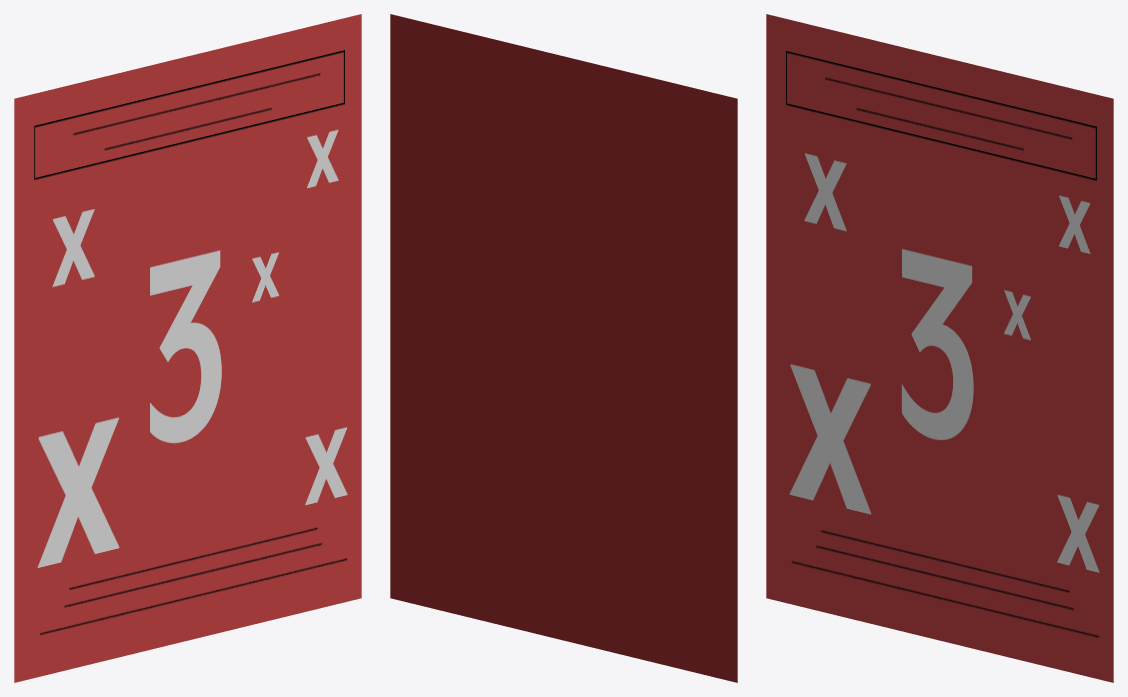
The model's file is RedPoster.glb.
3 renders of one model, left to right at view 1: azimuth 30°, elevation 25°; view 2: azimuth 150°, elevation 25°; view 3: azimuth 330°, elevation 25°, orthographic.
Visible parts, largest first — view 1: Red_Poster; view 2: Red_Poster; view 3: Red_Poster.
Boxes of the visible parts, box(x1,y1,x2,y2) form: Red_Poster: box(14, 14, 361, 682); Red_Poster: box(390, 14, 737, 682); Red_Poster: box(766, 14, 1113, 682).
Size of the model in its own units: 2.37 by 3.81 by 0.00135.
1 material, 1 textured.
